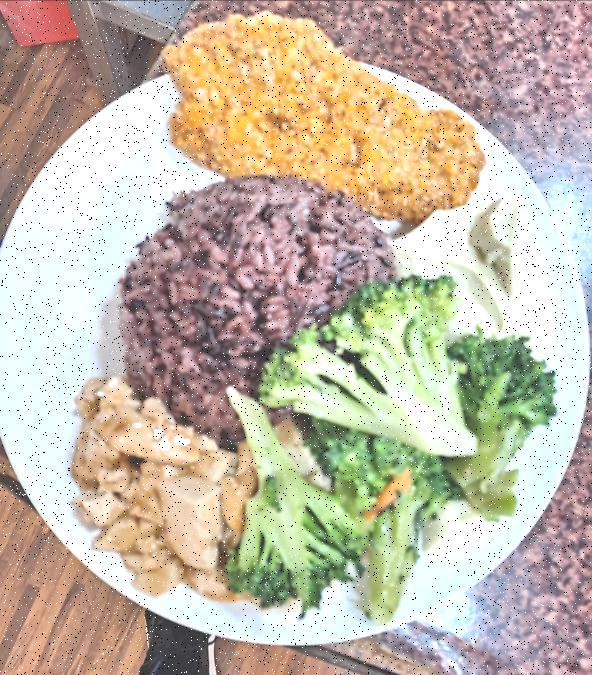chicken steak: (165, 7, 478, 224)
plate: (0, 29, 592, 655)
purple rice: (112, 168, 402, 436)
side dish: (231, 276, 558, 616), (66, 380, 280, 610), (378, 187, 552, 350)
